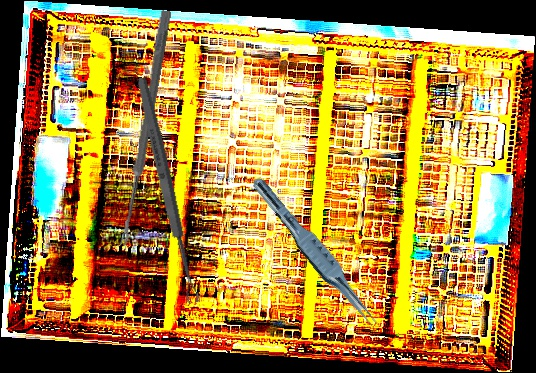Surgical Spoon: (134, 76, 201, 305), (118, 9, 172, 247)
Tissue Forceps: (242, 174, 388, 333)
